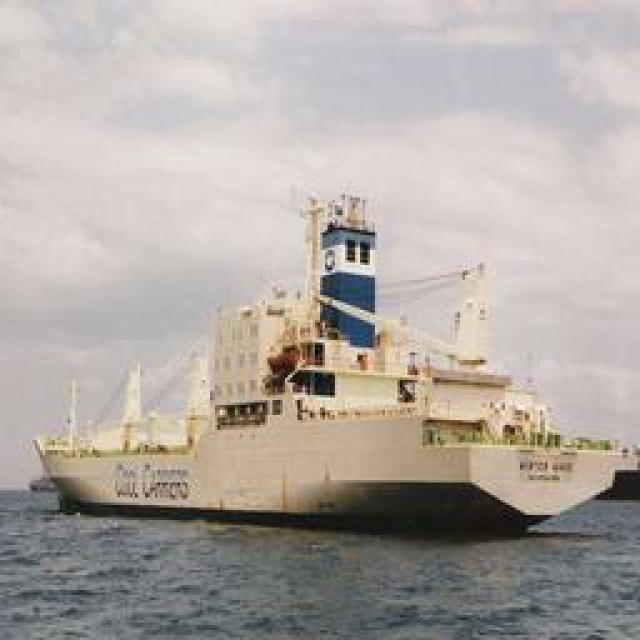Ship: (41, 181, 614, 529)
